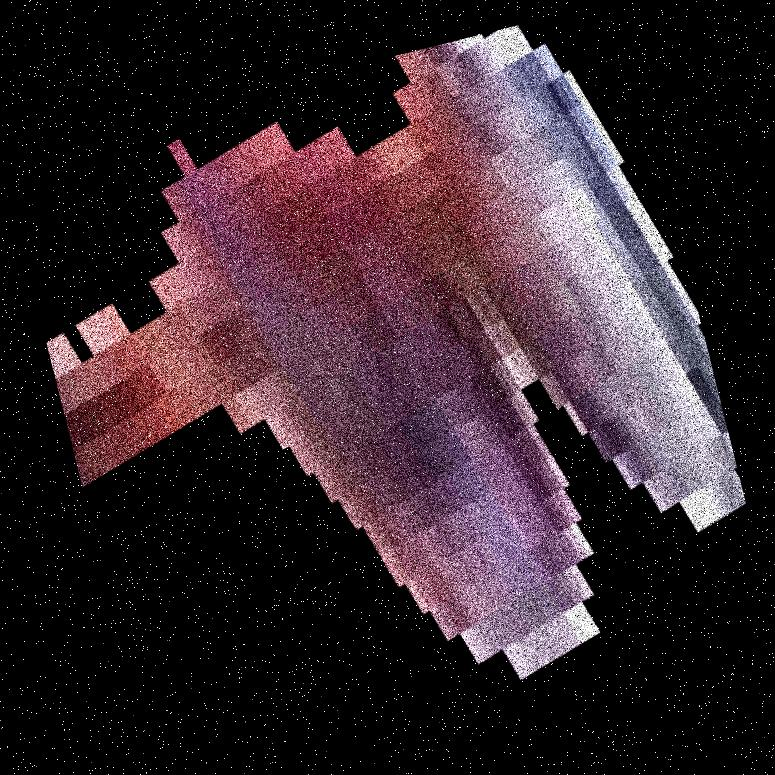Oculos: (368, 0, 673, 774)
